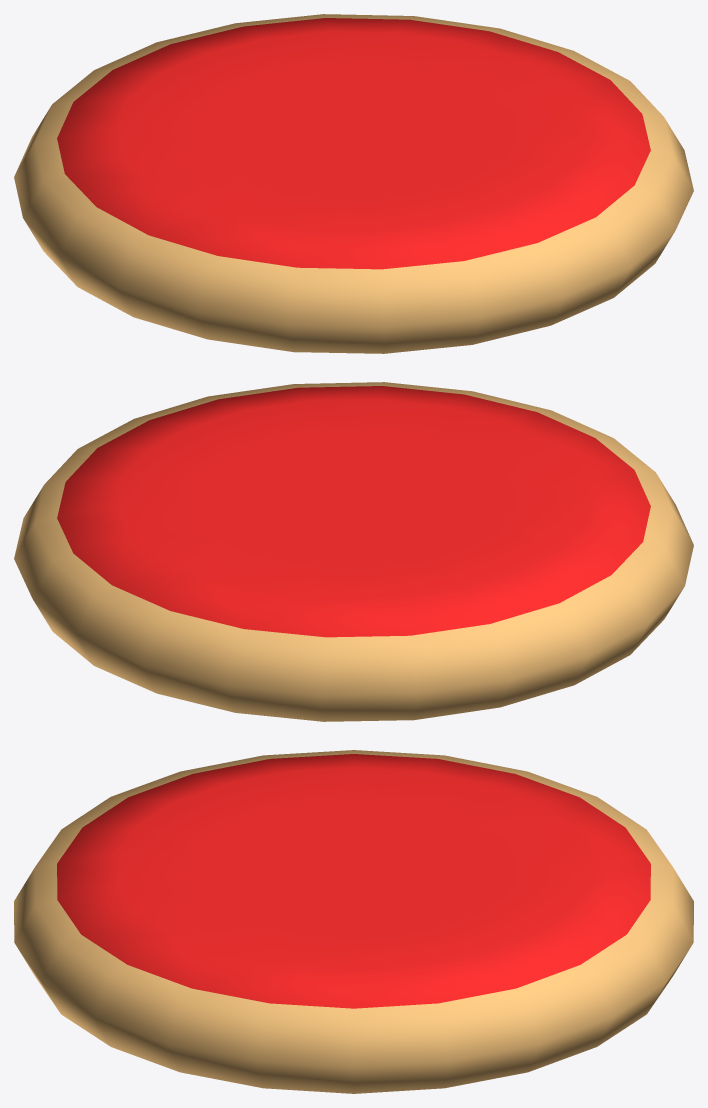
Rendered from Atackplane.fbx.
The picture shows the model from 3 angles, top to bottom: view 1: azimuth 30°, elevation 25°; view 2: azimuth 150°, elevation 25°; view 3: azimuth 270°, elevation 25°; orthographic projection.
Visible parts, largest first — view 1: Atackbutton, Atackbutton border; view 2: Atackbutton, Atackbutton border; view 3: Atackbutton, Atackbutton border.
Part boxes in pixels (x1,y1,x2,y2): Atackbutton: (57, 18, 650, 269); Atackbutton border: (14, 14, 693, 353); Atackbutton: (57, 386, 650, 637); Atackbutton border: (14, 382, 693, 721); Atackbutton: (57, 754, 650, 1008); Atackbutton border: (14, 750, 693, 1093).
Size of the model in its own units: 174 by 28.14 by 172.
